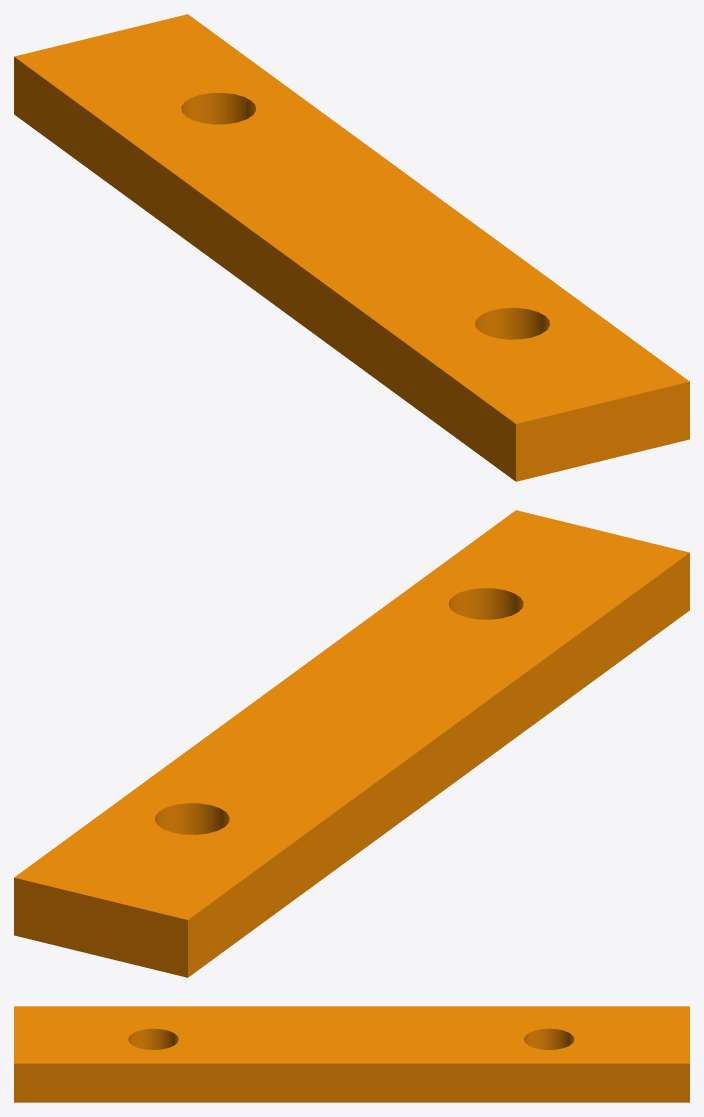
3 views of the same model, one above another, from view 1: azimuth 30°, elevation 25°; view 2: azimuth 150°, elevation 25°; view 3: azimuth 270°, elevation 25° (orthographic). The views are drawn at different scales.
Visible parts, largest first — view 1: do-maior; view 2: do-maior; view 3: do-maior.
Boxes of the visible parts, bbox=[...] form: do-maior: bbox=[14, 14, 689, 481]; do-maior: bbox=[14, 510, 689, 977]; do-maior: bbox=[14, 1006, 689, 1102].
Size of the model in its own units: 0.0945 by 0.03 by 0.4724.
